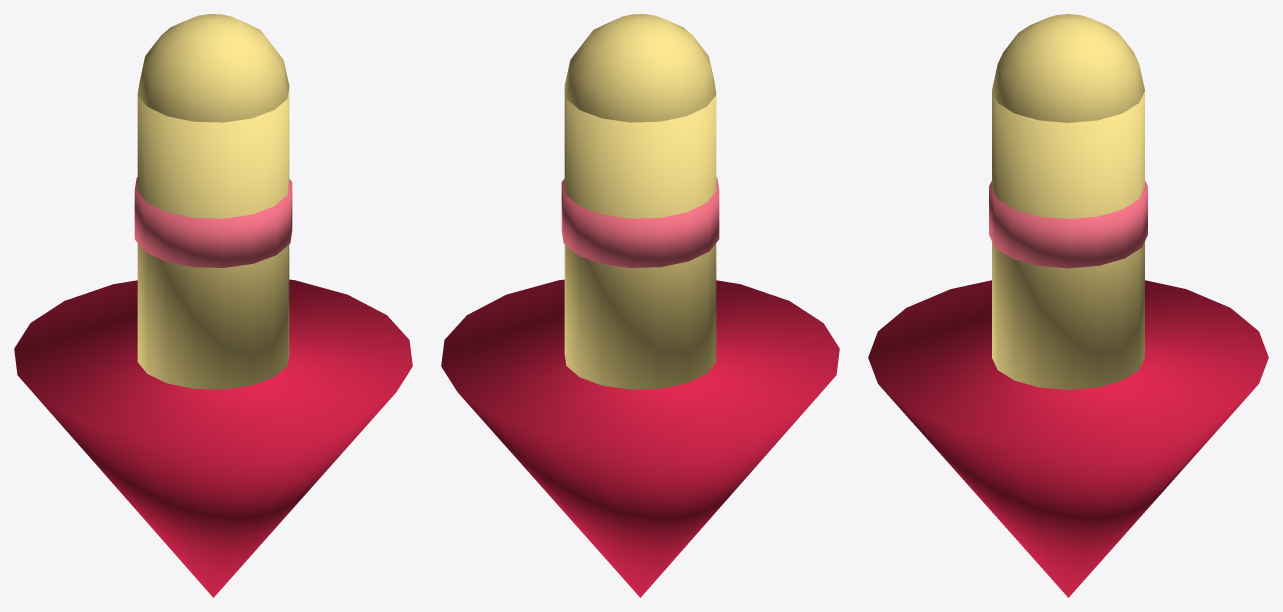
Rendered from slalom-arrow.glb.
The picture shows the model from 3 angles, left to right: view 1: azimuth 30°, elevation 25°; view 2: azimuth 150°, elevation 25°; view 3: azimuth 270°, elevation 25°; orthographic projection.
Visible parts, largest first — view 1: slalom-arrow; view 2: slalom-arrow; view 3: slalom-arrow.
Boxes of the visible parts, x1,y1,x2,y2 form: slalom-arrow: (14,14,412,597); slalom-arrow: (441,14,839,597); slalom-arrow: (868,14,1268,597).
Size of the model in its own units: 0.68 by 1.08 by 0.68.
1 material, 1 textured.
